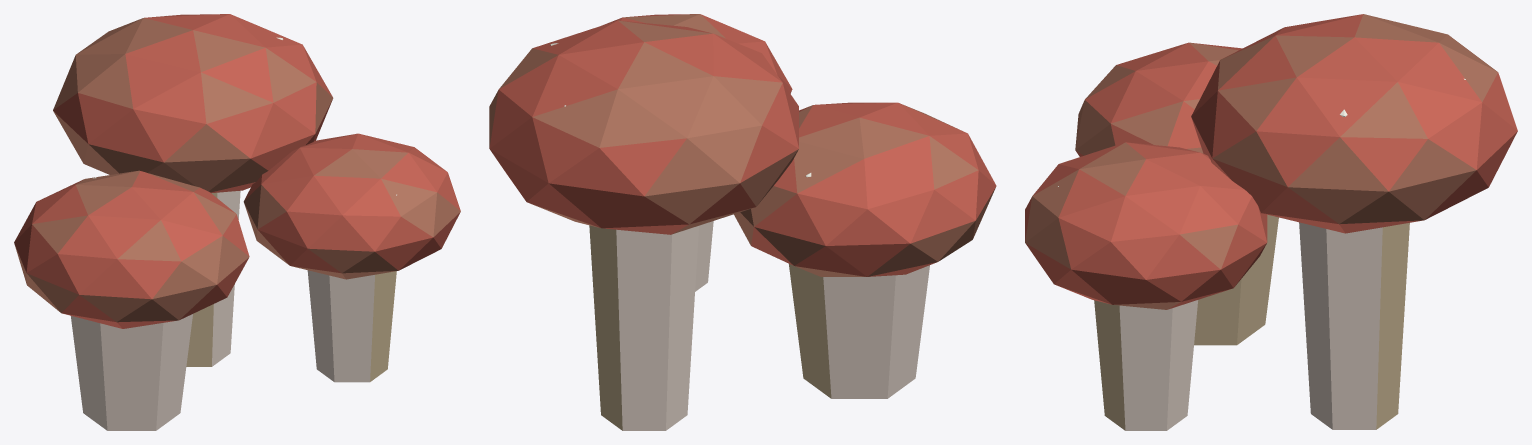
Rendered from mushroom_cluster.glb.
3 views of the same model, side by side, from view 1: azimuth 30°, elevation 25°; view 2: azimuth 150°, elevation 25°; view 3: azimuth 270°, elevation 25° (orthographic). The views are drawn at different scales.
Visible parts, largest first — view 1: mushroom_cluster; view 2: mushroom_cluster; view 3: mushroom_cluster.
Part boxes in pixels (bbox=[...]): mushroom_cluster: bbox=[14, 14, 460, 430]; mushroom_cluster: bbox=[489, 14, 996, 430]; mushroom_cluster: bbox=[1025, 14, 1517, 430].
Bounding box in the file's own units: 0.5052 × 0.3988 × 0.4732.
